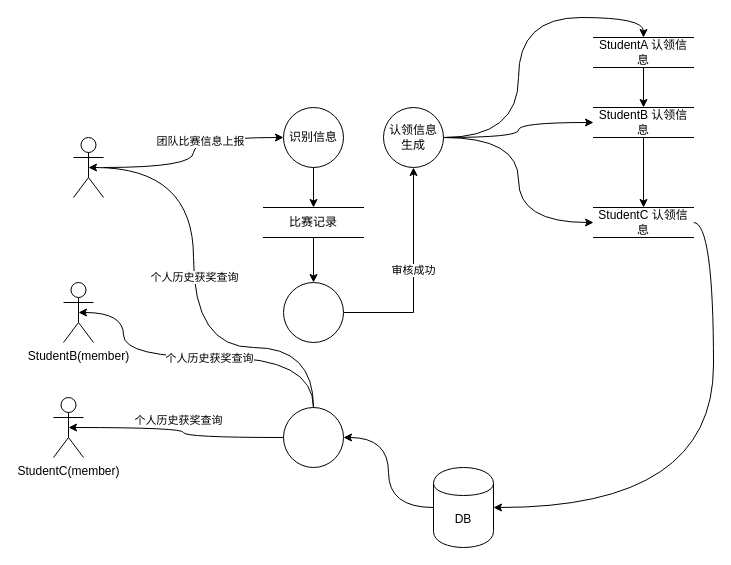
Some shapes in this 731 by 565 pixel diagram are drawn without their labels. The centre of each missing label's shape, as x and y in pixels:
StudentA(leader): [88,167]
审核上报: [313,312]
查询记录: [313,437]
